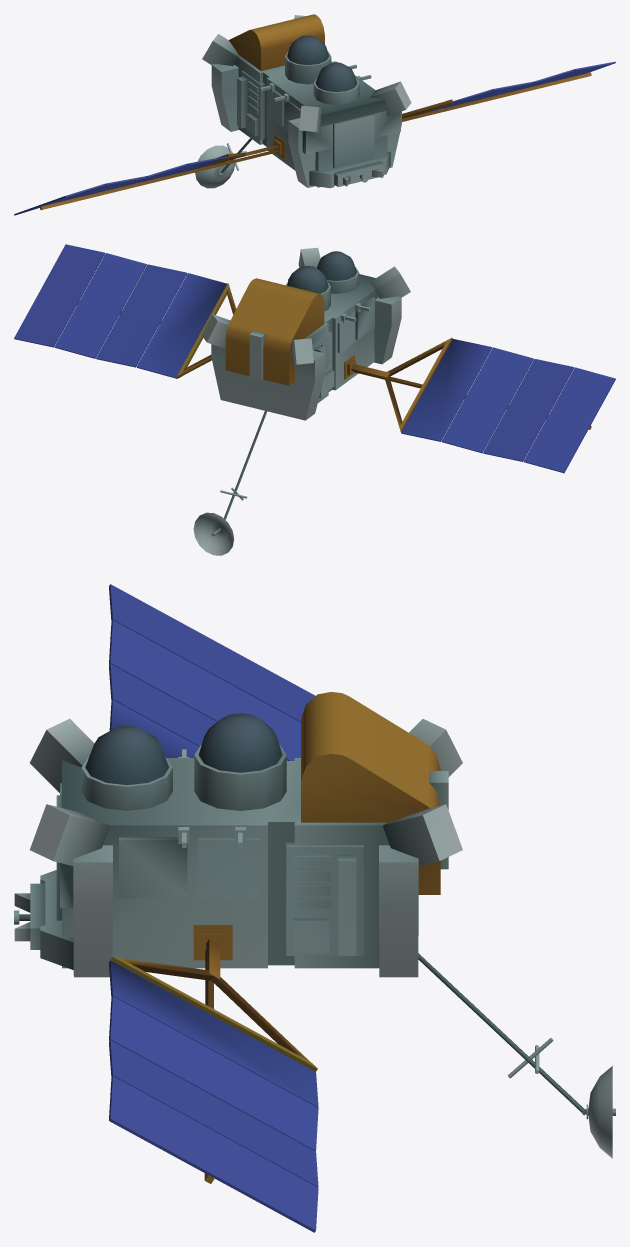
Rendered from space-satellites-satellite_v14.fbx.
The picture shows the model from 3 angles, top to bottom: view 1: azimuth 30°, elevation 25°; view 2: azimuth 150°, elevation 25°; view 3: azimuth 270°, elevation 25°; orthographic projection. The views are drawn at different scales.
Visible parts, largest first — view 1: Satellite_v14; view 2: Satellite_v14; view 3: Satellite_v14.
Boxes of the visible parts, <box> form: Satellite_v14: <box>14,14,615,215</box>; Satellite_v14: <box>14,244,615,555</box>; Satellite_v14: <box>14,584,615,1232</box>.
Size of the model in its own units: 8 by 3.04 by 3.81.
